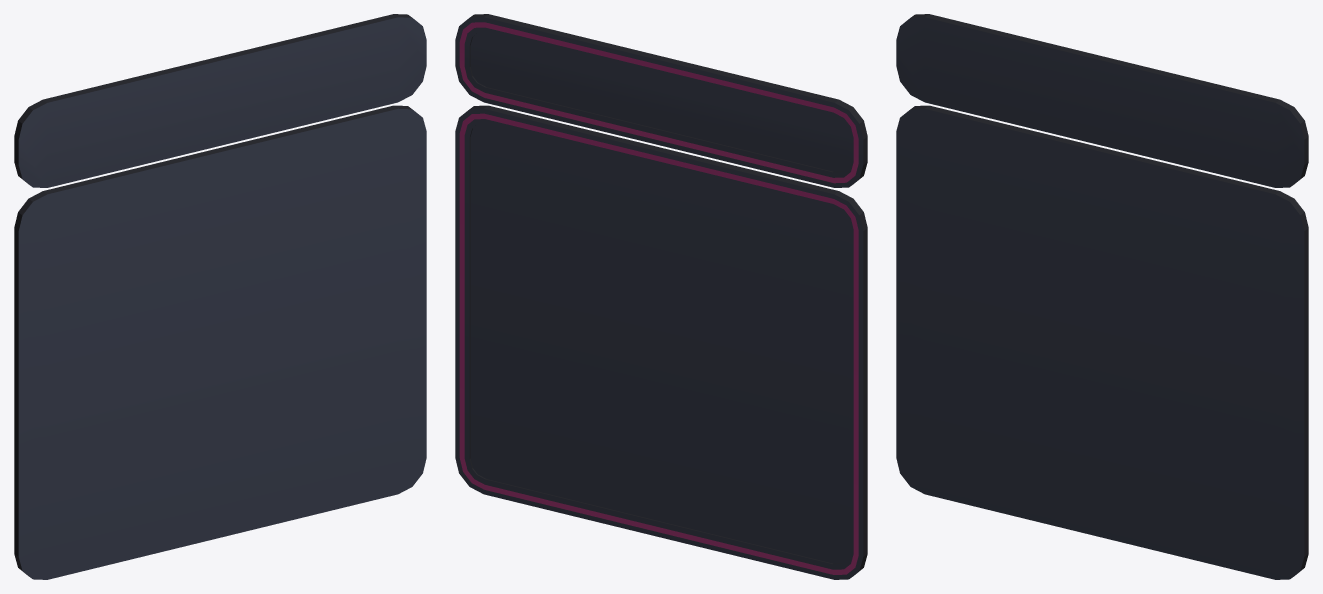
The model's file is squidgame_props_leaderboard.fbx.
3 renders of one model, left to right at view 1: azimuth 30°, elevation 25°; view 2: azimuth 150°, elevation 25°; view 3: azimuth 330°, elevation 25°, orthographic.
Parts seen in each view (by area): view 1: squidgame_props_leaderboard; view 2: squidgame_props_leaderboard; view 3: squidgame_props_leaderboard.
Part boxes in pixels (x1,y1,x2,y2): squidgame_props_leaderboard: (14,14,426,579); squidgame_props_leaderboard: (455,14,867,579); squidgame_props_leaderboard: (896,14,1308,579).
Bounding box in the file's own units: 4.29 × 4.79 × 0.082.
